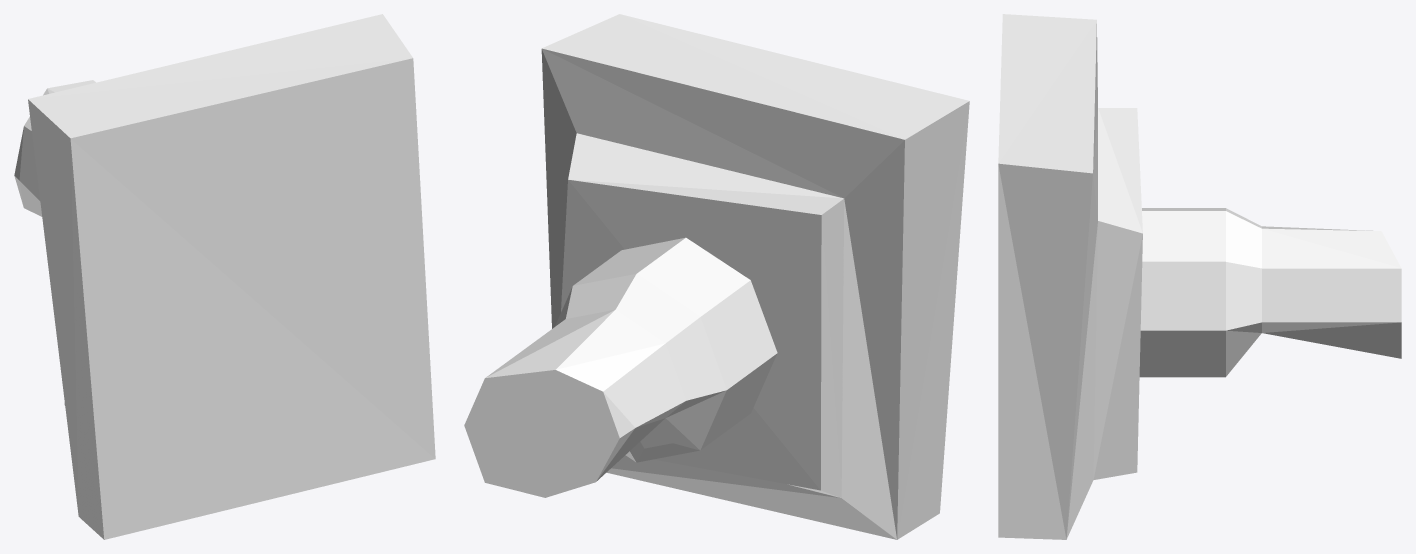
File: venice_col_obj_4.fbx
3 renders of one model, left to right at view 1: azimuth 30°, elevation 25°; view 2: azimuth 150°, elevation 25°; view 3: azimuth 270°, elevation 25°, orthographic. The views are drawn at different scales.
Visible parts, largest first — view 1: Cylinder.047; view 2: Cylinder.047; view 3: Cylinder.047.
Part boxes in pixels (<box>): Cylinder.047: <box>14,14,435,539</box>; Cylinder.047: <box>464,14,969,539</box>; Cylinder.047: <box>998,14,1401,539</box>.
Bounding box in the file's own units: 447 × 483 × 480.
